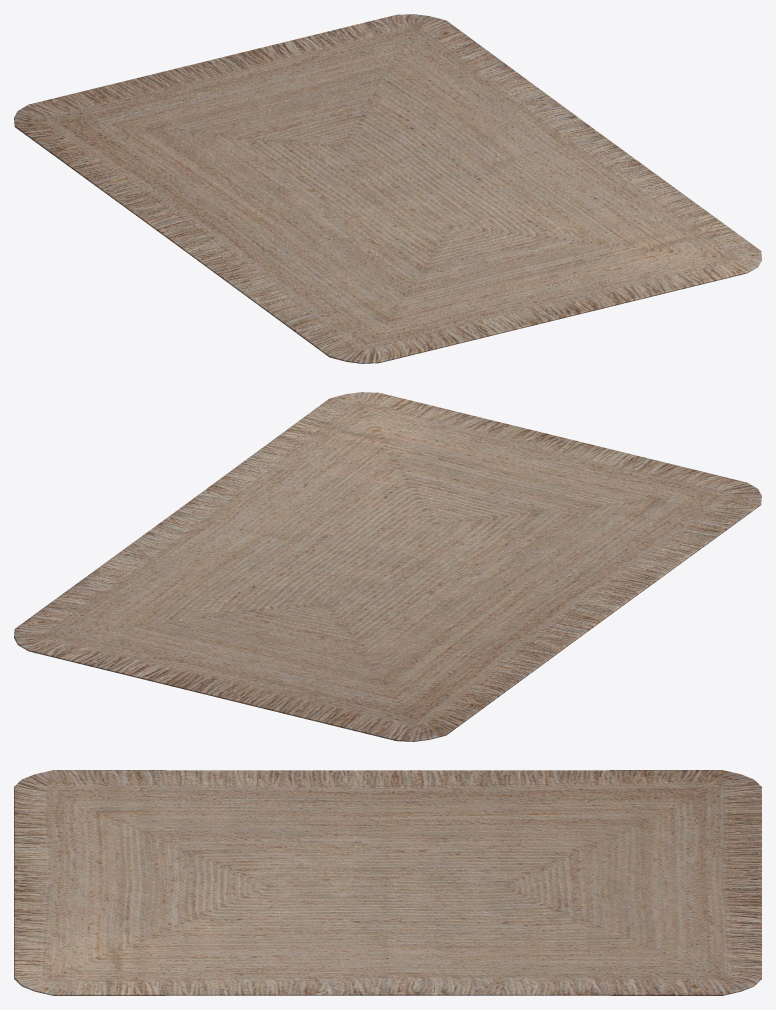
Rendered from rug.glb.
3 renders of one model, top to bottom at view 1: azimuth 30°, elevation 25°; view 2: azimuth 150°, elevation 25°; view 3: azimuth 270°, elevation 25°, orthographic. The views are drawn at different scales.
Visible parts, largest first — view 1: rugs; view 2: rugs; view 3: rugs.
Part boxes in pixels (x1,y1,x2,y2): rugs: (14,14,761,363); rugs: (14,392,761,741); rugs: (14,770,761,995).
Size of the model in its own units: 170 by 0.8076 by 240.
1 material, 1 textured.
